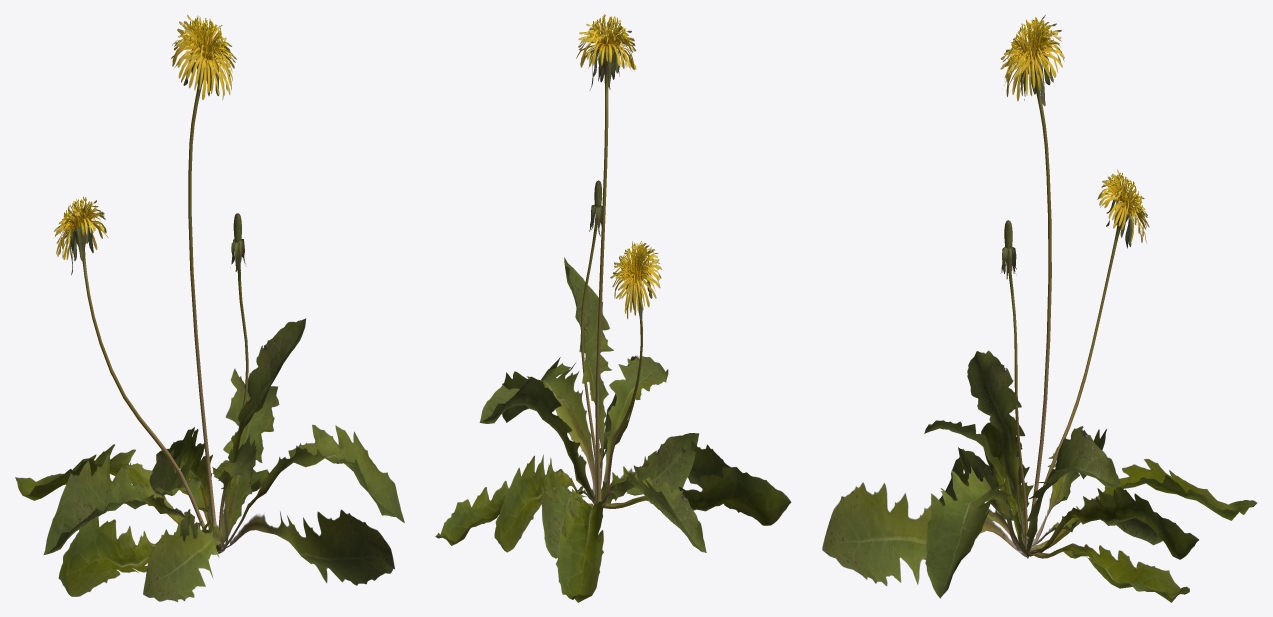
Rendered from dandelion_a.glb.
3 views of the same model, side by side, from view 1: azimuth 30°, elevation 25°; view 2: azimuth 150°, elevation 25°; view 3: azimuth 270°, elevation 25° (orthographic). The views are drawn at different scales.
Parts seen in each view (by area): view 1: dandelion_01_a_LOD0.001; view 2: dandelion_01_a_LOD0.001; view 3: dandelion_01_a_LOD0.001.
Boxes of the visible parts, x1,y1,x2,y2 form: dandelion_01_a_LOD0.001: (15,15,404,601); dandelion_01_a_LOD0.001: (435,14,791,602); dandelion_01_a_LOD0.001: (822,15,1256,602).
Bounding box in the file's own units: 5.1 × 8.08 × 5.97.
1 material, 1 textured.
